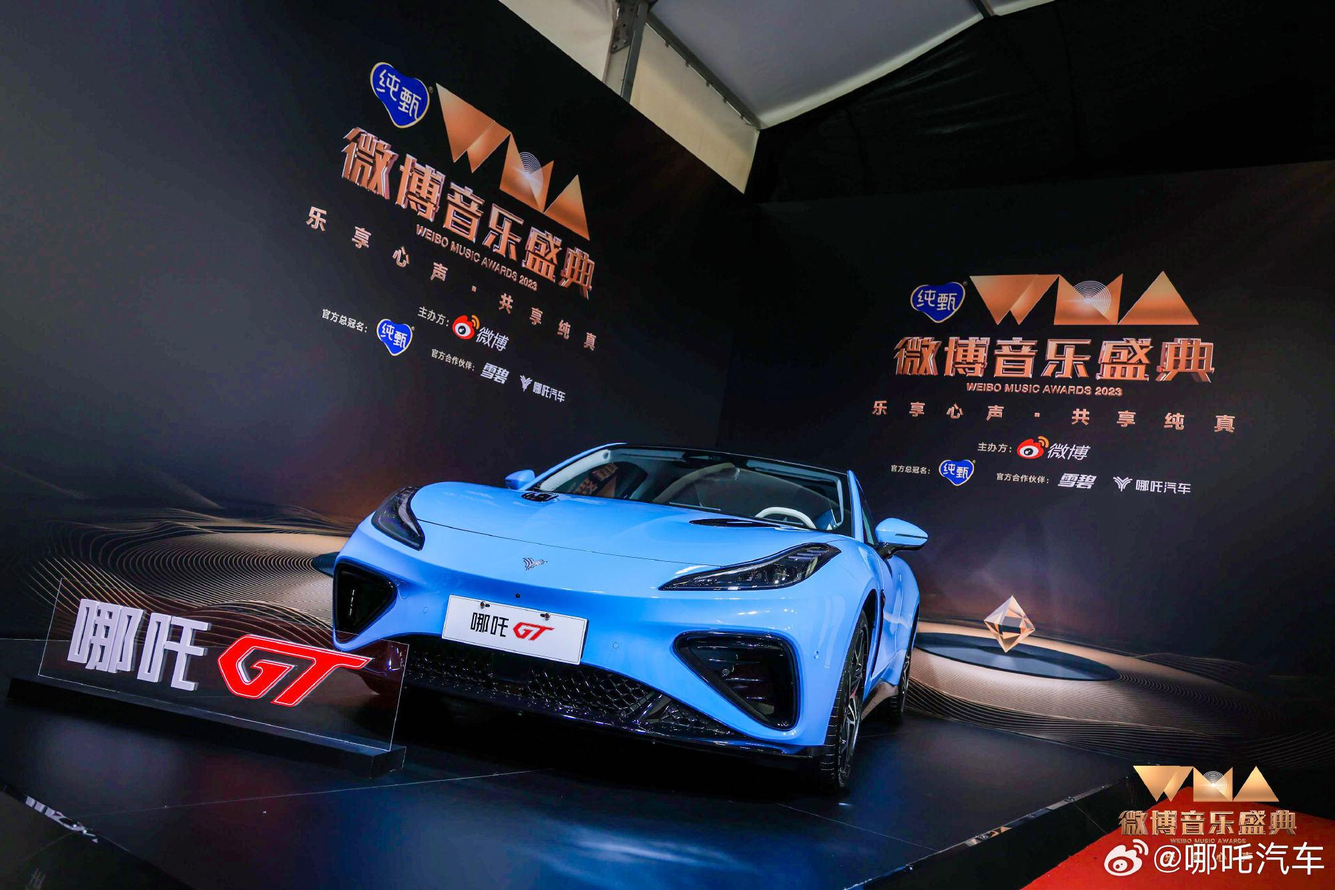NETA: (521, 556, 549, 572)
